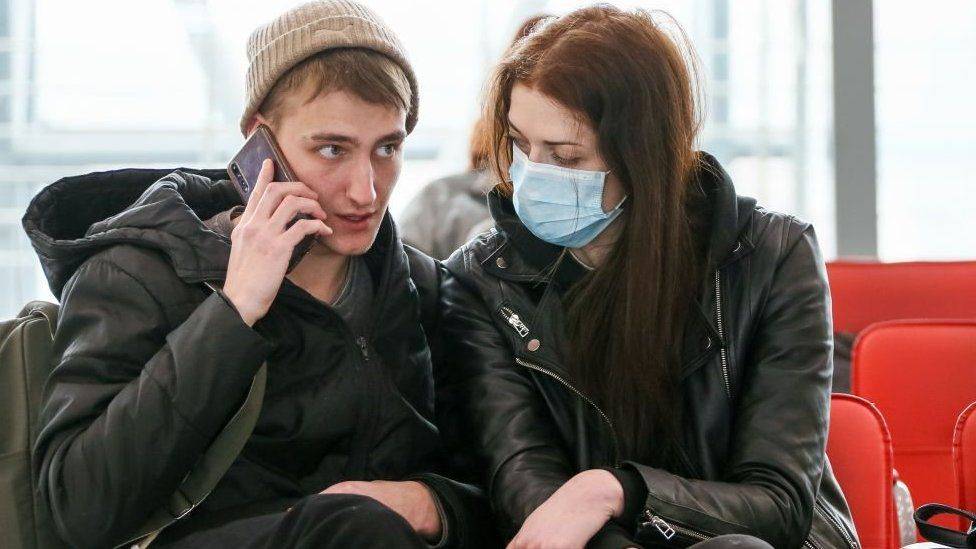with_mask: (512, 123, 606, 240)
without_mask: (302, 110, 390, 244)
